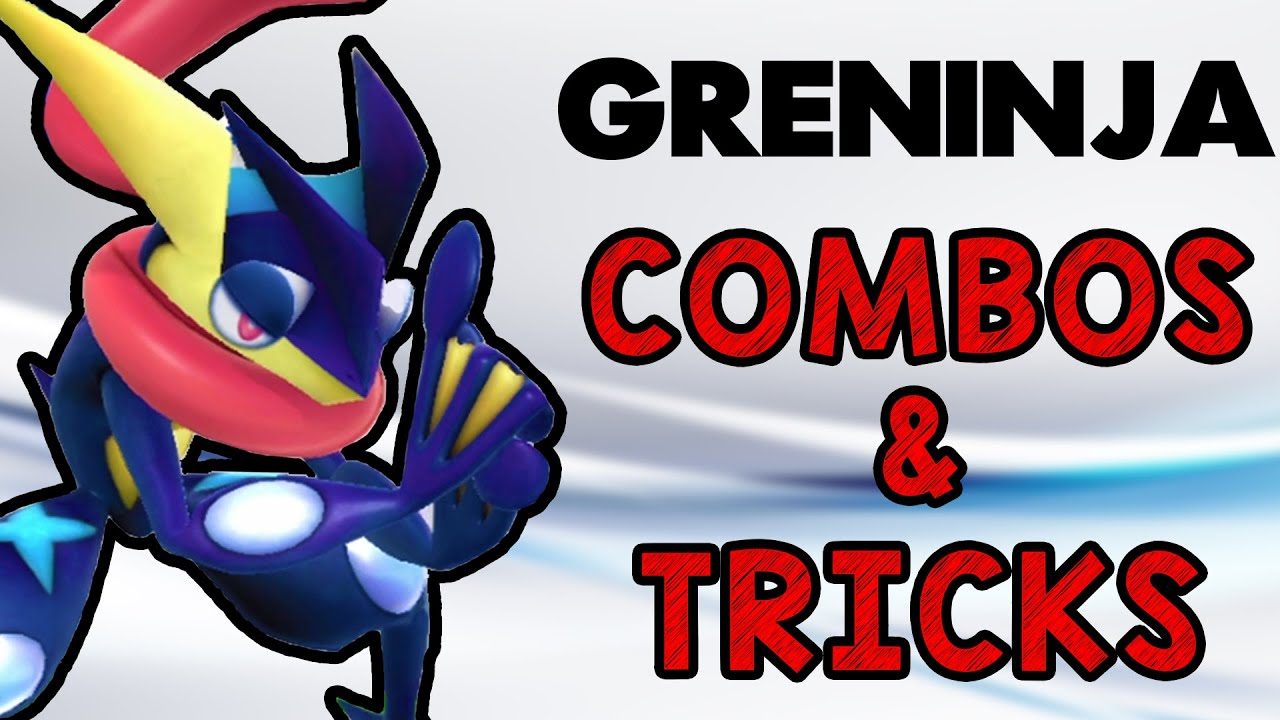greninja: (1, 3, 581, 711)
